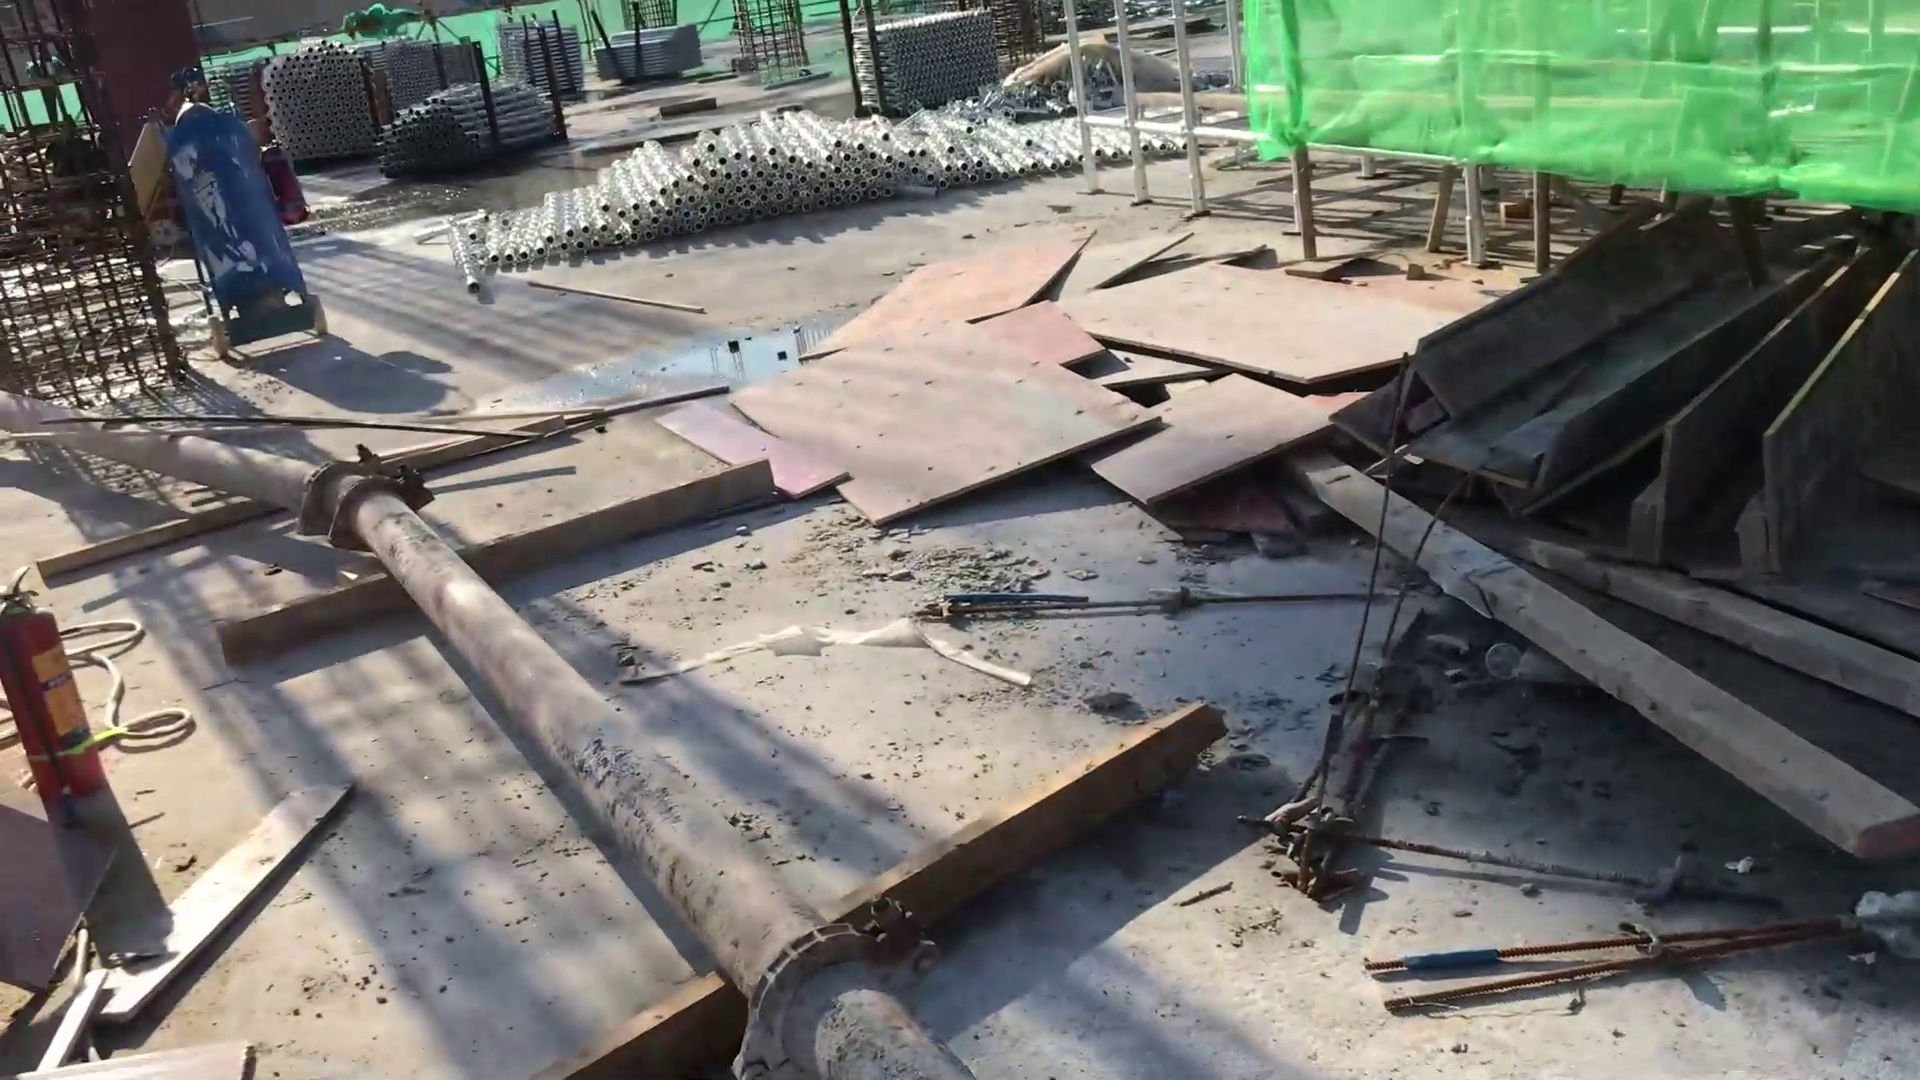scaffold: (260, 21, 498, 186), (376, 62, 574, 196), (843, 7, 1017, 128), (597, 15, 703, 109), (498, 15, 584, 112)
